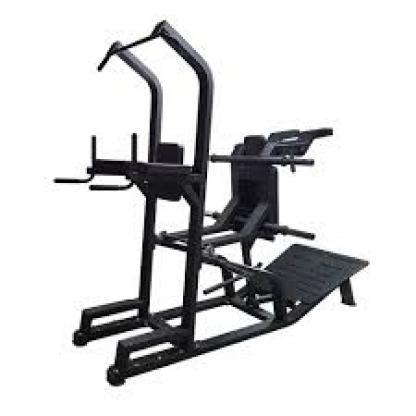chinning dipping: (55, 19, 214, 390)
